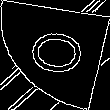O_E: (20, 28, 90, 82)
